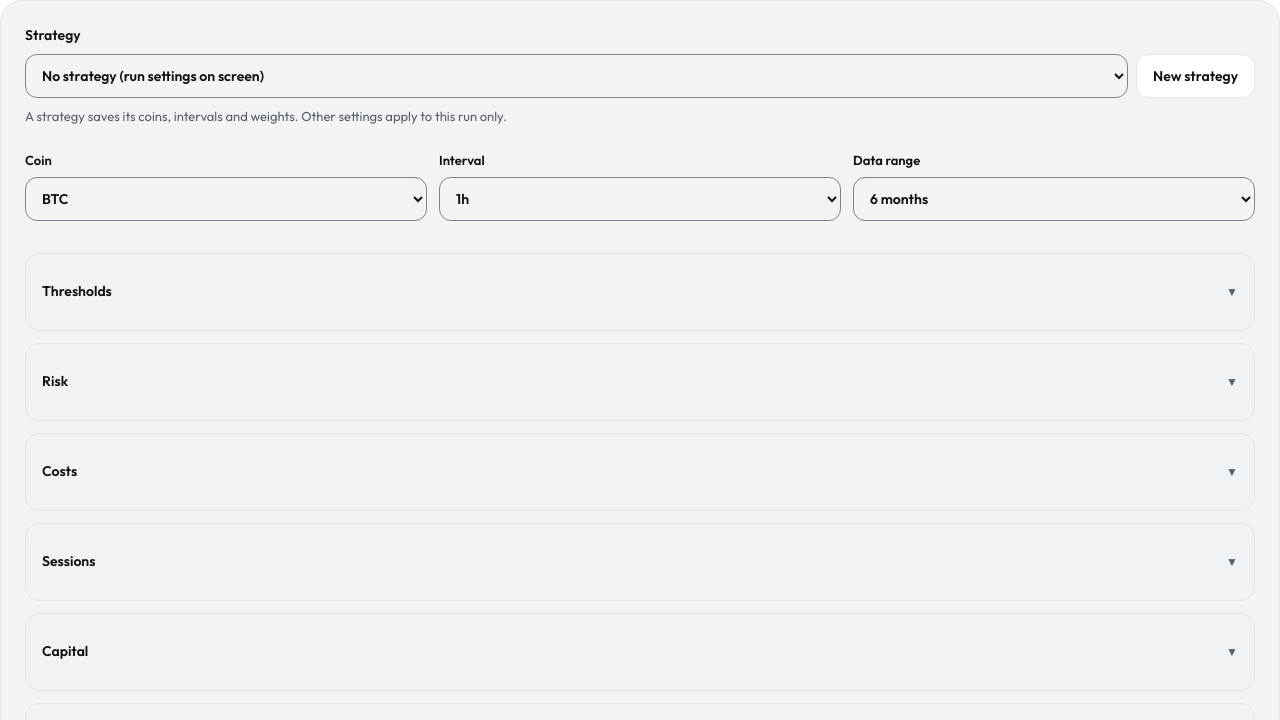
Test: StrategyConfig › opens New strategy as a labelled dialog with named checkbox groups and closes on Escape
Click the button "New strategy" at {"x": 1196, "y": 76}, box [1136,54,1255,98]
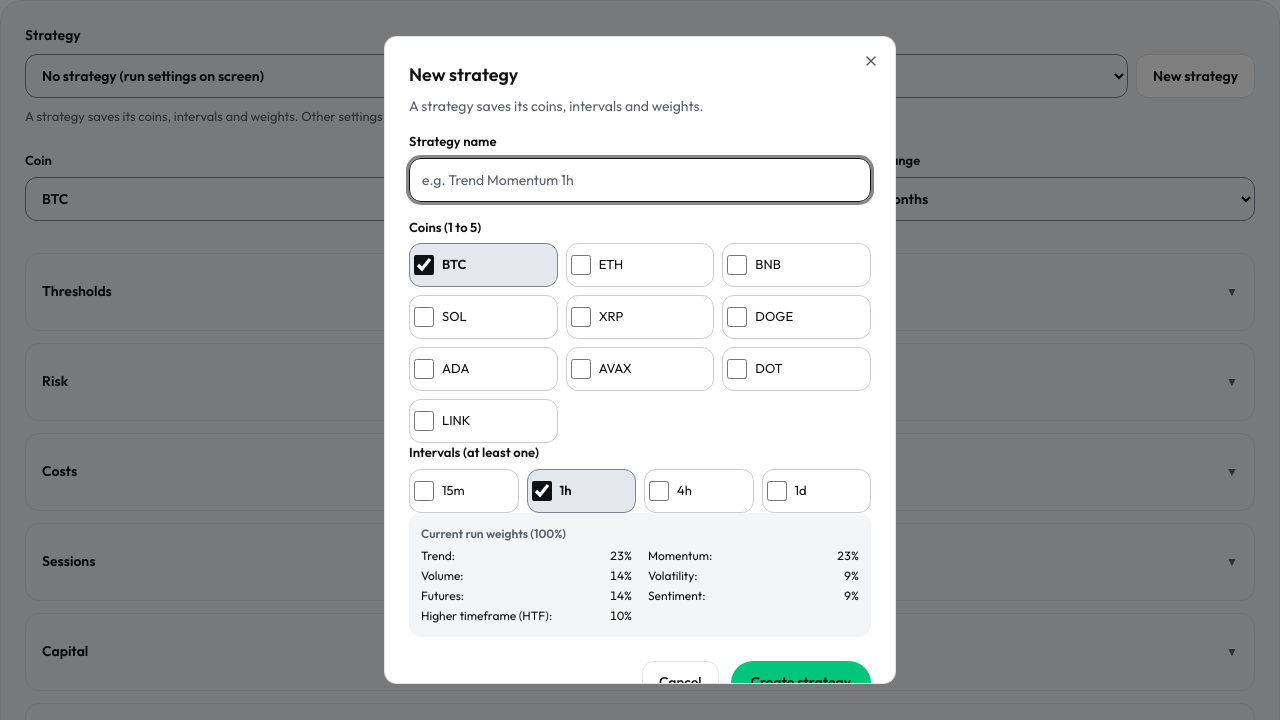
Check: the dialog "New strategy" shows "A strategy saves its coins, intervals and weights.", box [409,97,704,115]
Check: the element "Coins (1 to 5)" is shown, box [409,218,871,443]
Check: the element "Intervals (at least one)" is shown, box [409,443,871,512]
Press Escape in the dialog "New strategy", box [384,36,896,684]
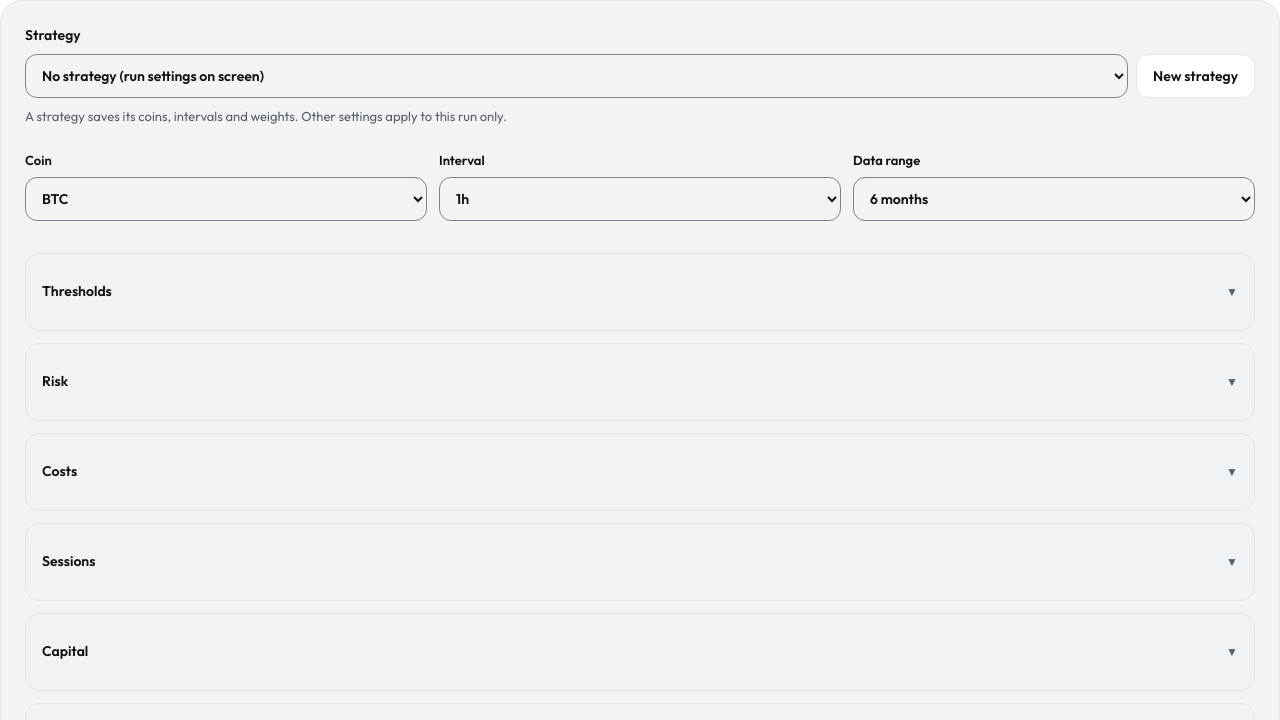
Check: the dialog is gone
